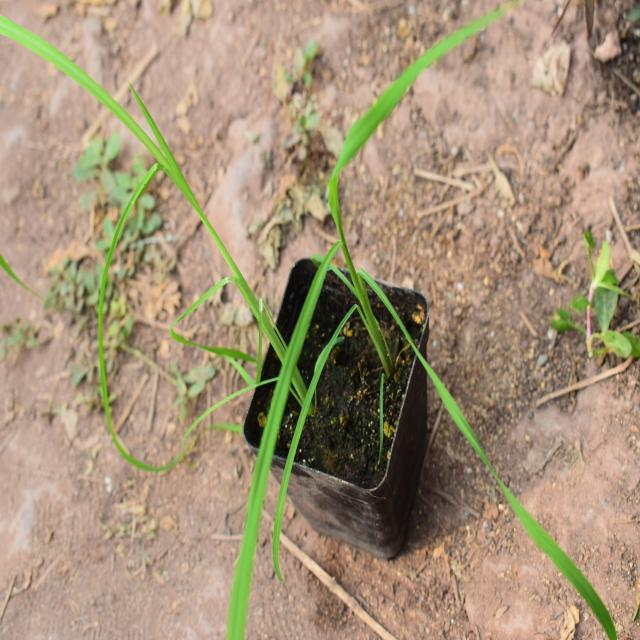barnyard_grass: (140, 72, 510, 599)
